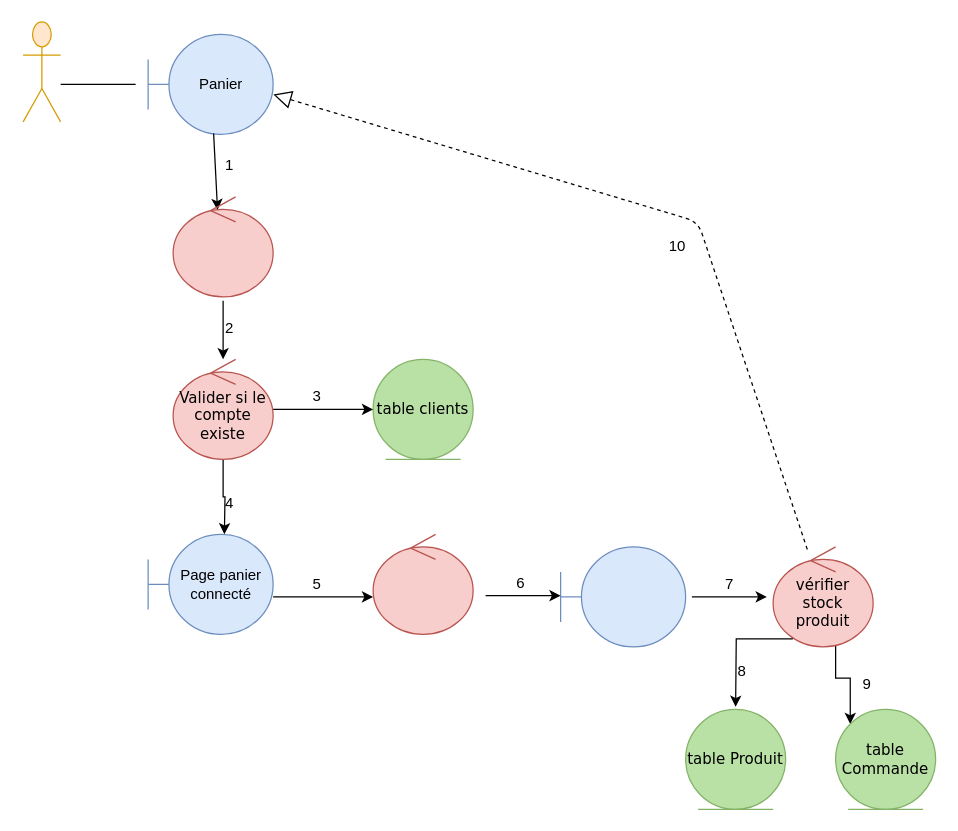
Image size: 958x831. Some labels were removed from this diagram. The shapes that lost their labels are listed below. From the top down, each one's box as (x1, y1, x2, y2) in pixels, then its label:
(22, 21, 61, 122): client
(172, 196, 273, 297): Se connecter
(372, 533, 473, 634): Passer une commande
(559, 546, 686, 647): formulaire date et heure de ramassage
